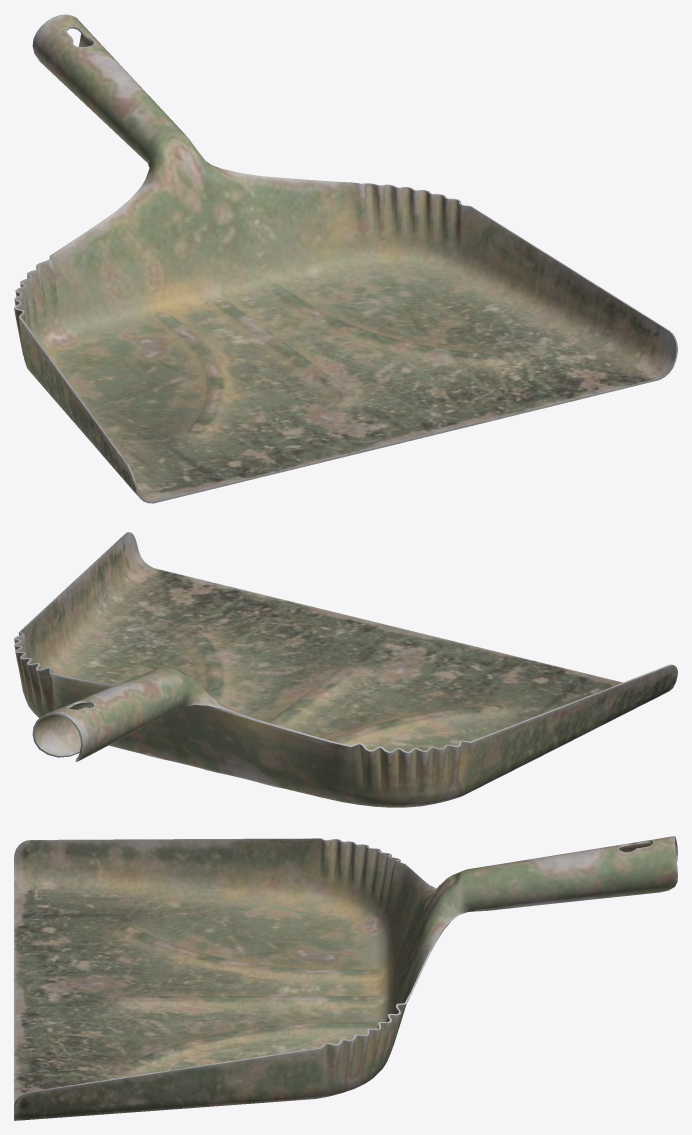
File: Dustpan.obj
3 views of the same model, one above another, from view 1: azimuth 30°, elevation 25°; view 2: azimuth 150°, elevation 25°; view 3: azimuth 270°, elevation 25° (orthographic). The views are drawn at different scales.
Parts seen in each view (by area): view 1: Dustpan; view 2: Dustpan; view 3: Dustpan.
Part boxes in pixels (x1,y1,x2,y2): Dustpan: [14, 14, 677, 503]; Dustpan: [14, 532, 677, 807]; Dustpan: [14, 836, 677, 1120].
Bounding box in the file's own units: 0.3322 × 0.1003 × 0.368.
Materials: 1 (1 with a texture image).
